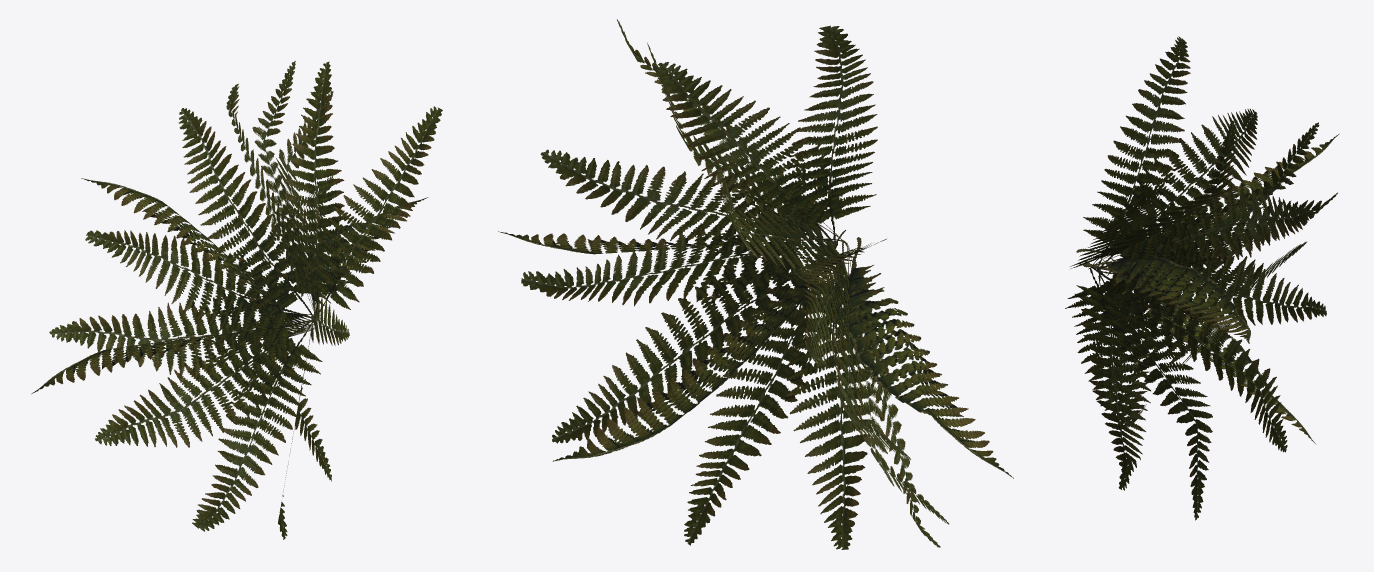
File: MEP_Fern_DP_05.fbx
3 views of the same model, side by side, from view 1: azimuth 30°, elevation 25°; view 2: azimuth 150°, elevation 25°; view 3: azimuth 270°, elevation 25° (orthographic). The views are drawn at different scales.
Parts seen in each view (by area): view 1: MEP_Fern_05_DP; view 2: MEP_Fern_05_DP; view 3: MEP_Fern_05_DP.
Part boxes in pixels (bbox=[...]): MEP_Fern_05_DP: bbox=[31, 61, 442, 539]; MEP_Fern_05_DP: bbox=[498, 19, 1013, 549]; MEP_Fern_05_DP: bbox=[1065, 36, 1339, 520].
Bounding box in the file's own units: 1.94 × 2 × 1.2.
